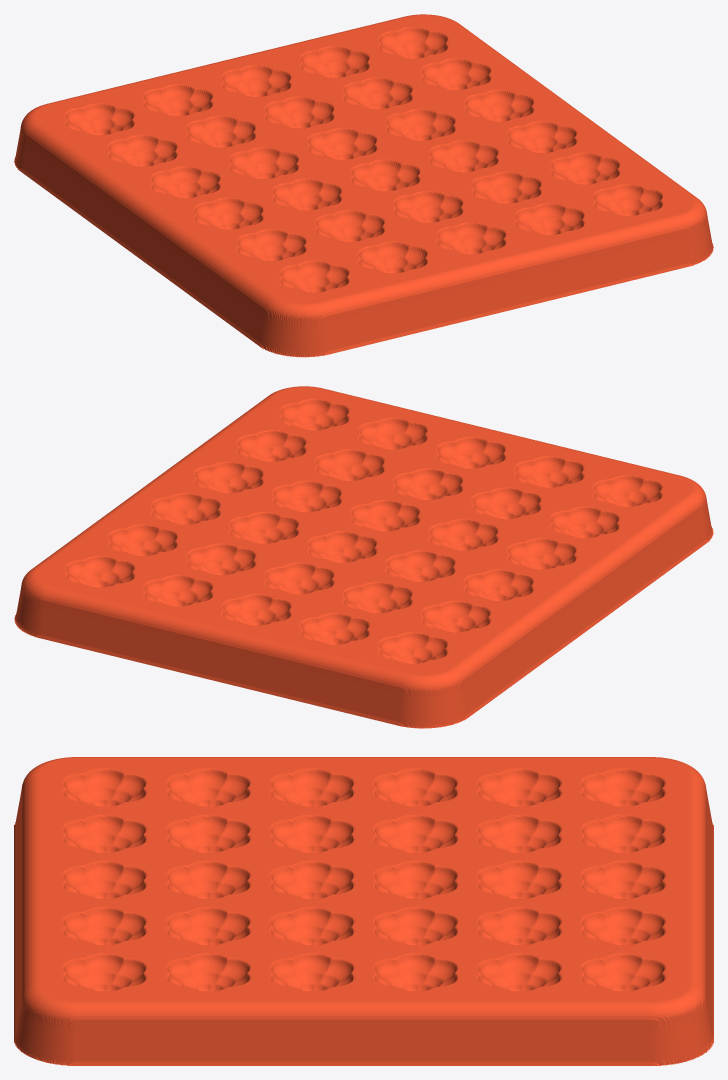
File: mold.glb
The picture shows the model from 3 angles, top to bottom: view 1: azimuth 30°, elevation 25°; view 2: azimuth 150°, elevation 25°; view 3: azimuth 270°, elevation 25°; orthographic projection. The views are drawn at different scales.
Visible parts, largest first — view 1: geometry_0; view 2: geometry_0; view 3: geometry_0.
Boxes of the visible parts, bbox=[...] form: geometry_0: bbox=[14, 14, 713, 357]; geometry_0: bbox=[14, 386, 713, 728]; geometry_0: bbox=[14, 757, 713, 1065].
Size of the model in its own units: 0.0902 by 0.00864 by 0.1012.
